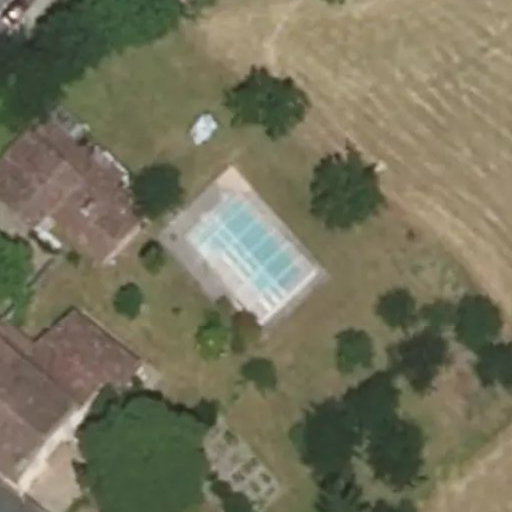pool: (197, 230, 314, 260)
